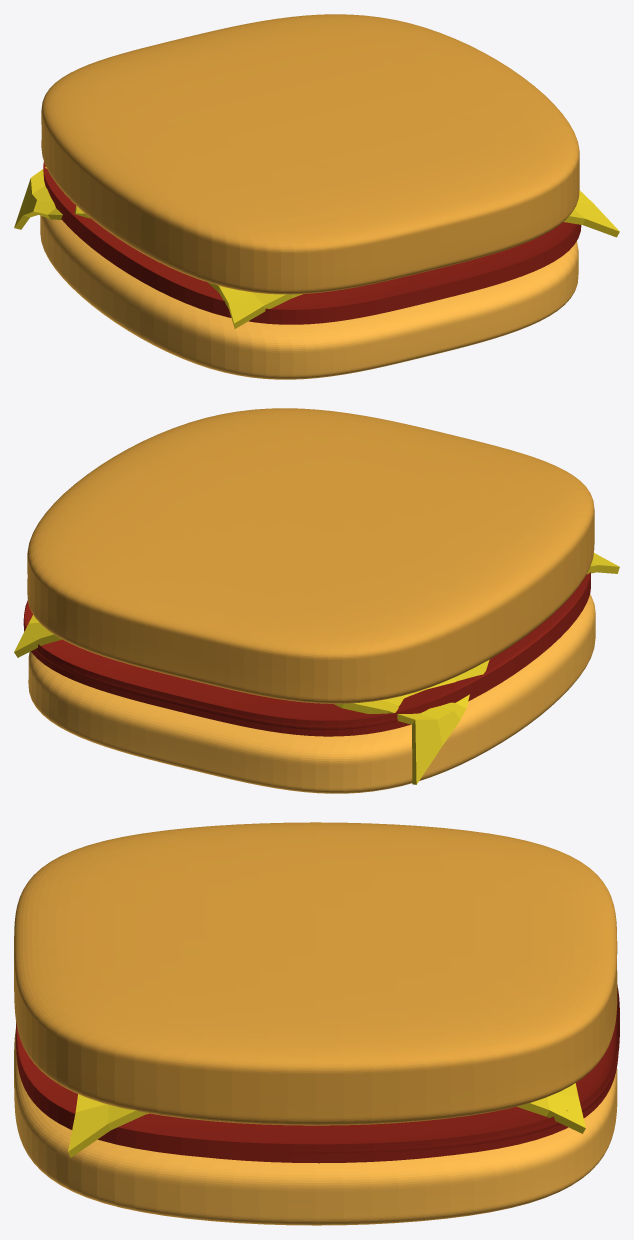
The model's file is hambuger.glb.
3 views of the same model, one above another, from view 1: azimuth 30°, elevation 25°; view 2: azimuth 150°, elevation 25°; view 3: azimuth 270°, elevation 25° (orthographic). The views are drawn at different scales.
Visible parts, largest first — view 1: 立方體.002, 立方體, 立方體.001, 平面; view 2: 立方體.002, 立方體, 立方體.001, 平面; view 3: 立方體.002, 立方體, 立方體.001, 平面.
Part boxes in pixels (x1,y1,x2,y2): 立方體.002: [41, 14, 579, 294]; 立方體: [40, 215, 578, 379]; 立方體.001: [43, 162, 581, 324]; 平面: [14, 167, 619, 328]; 立方體.002: [27, 408, 594, 703]; 立方體: [28, 594, 595, 793]; 立方體.001: [23, 572, 590, 736]; 平面: [14, 553, 619, 784]; 立方體.002: [14, 822, 617, 1125]; 立方體: [14, 1029, 617, 1225]; 立方體.001: [16, 985, 619, 1163]; 平面: [68, 1083, 585, 1157].
Bounding box in the file's own units: 3.9 × 1.39 × 4.05.
